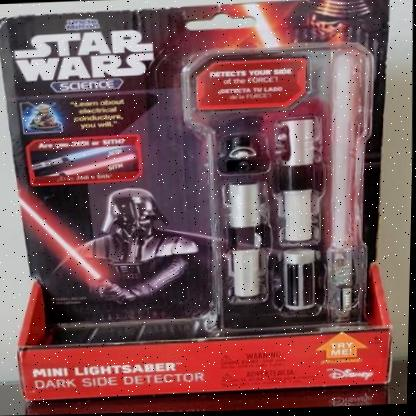sith_lightsaber: (19, 190, 109, 285)
